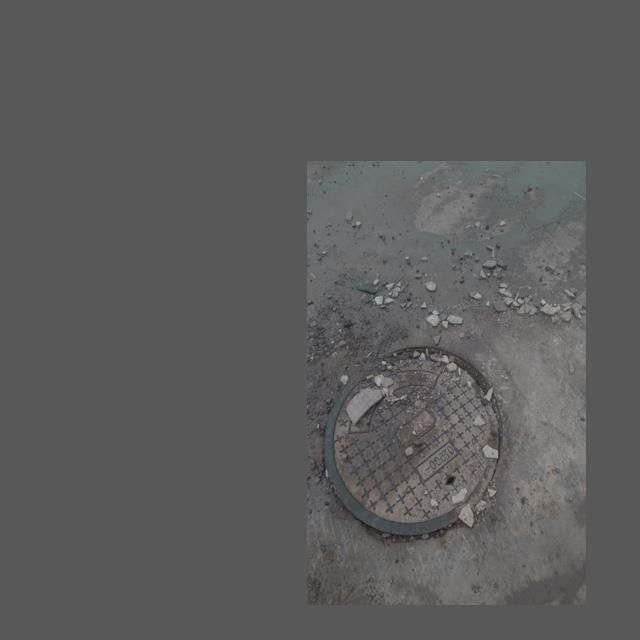uncovered: (325, 346, 503, 535)
